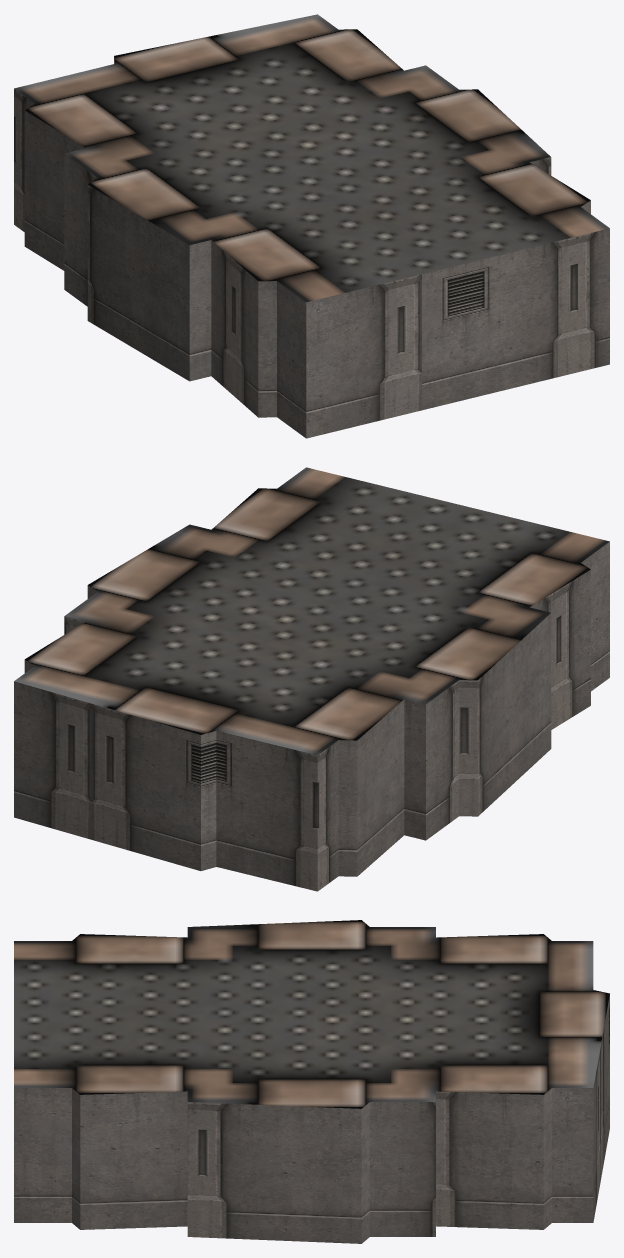
Rendered from building_hard_a_08.glb.
3 renders of one model, top to bottom at view 1: azimuth 30°, elevation 25°; view 2: azimuth 150°, elevation 25°; view 3: azimuth 270°, elevation 25°, orthographic.
Visible parts, largest first — view 1: buildings/saxarba/building_hard/building_hard_a_08; view 2: buildings/saxarba/building_hard/building_hard_a_08; view 3: buildings/saxarba/building_hard/building_hard_a_08.
Boxes of the visible parts, x1,y1,x2,y2 form: buildings/saxarba/building_hard/building_hard_a_08: (14, 14, 609, 438); buildings/saxarba/building_hard/building_hard_a_08: (14, 467, 609, 891); buildings/saxarba/building_hard/building_hard_a_08: (14, 920, 609, 1243).
Size of the model in its own units: 54 by 18 by 72.
